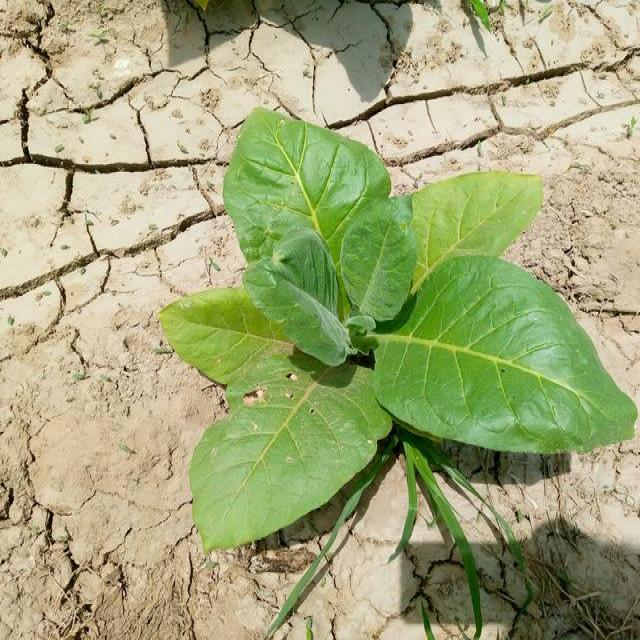crop: (160, 98, 640, 550)
